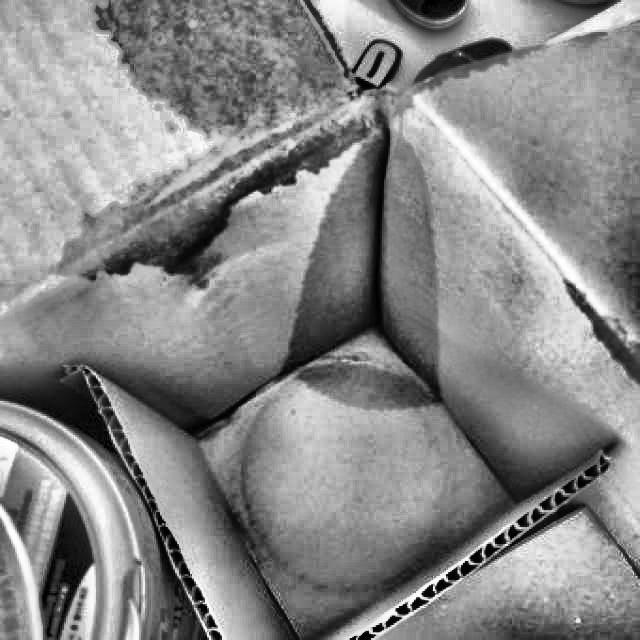box: (0, 0, 639, 639)
wet: (61, 0, 443, 428)
